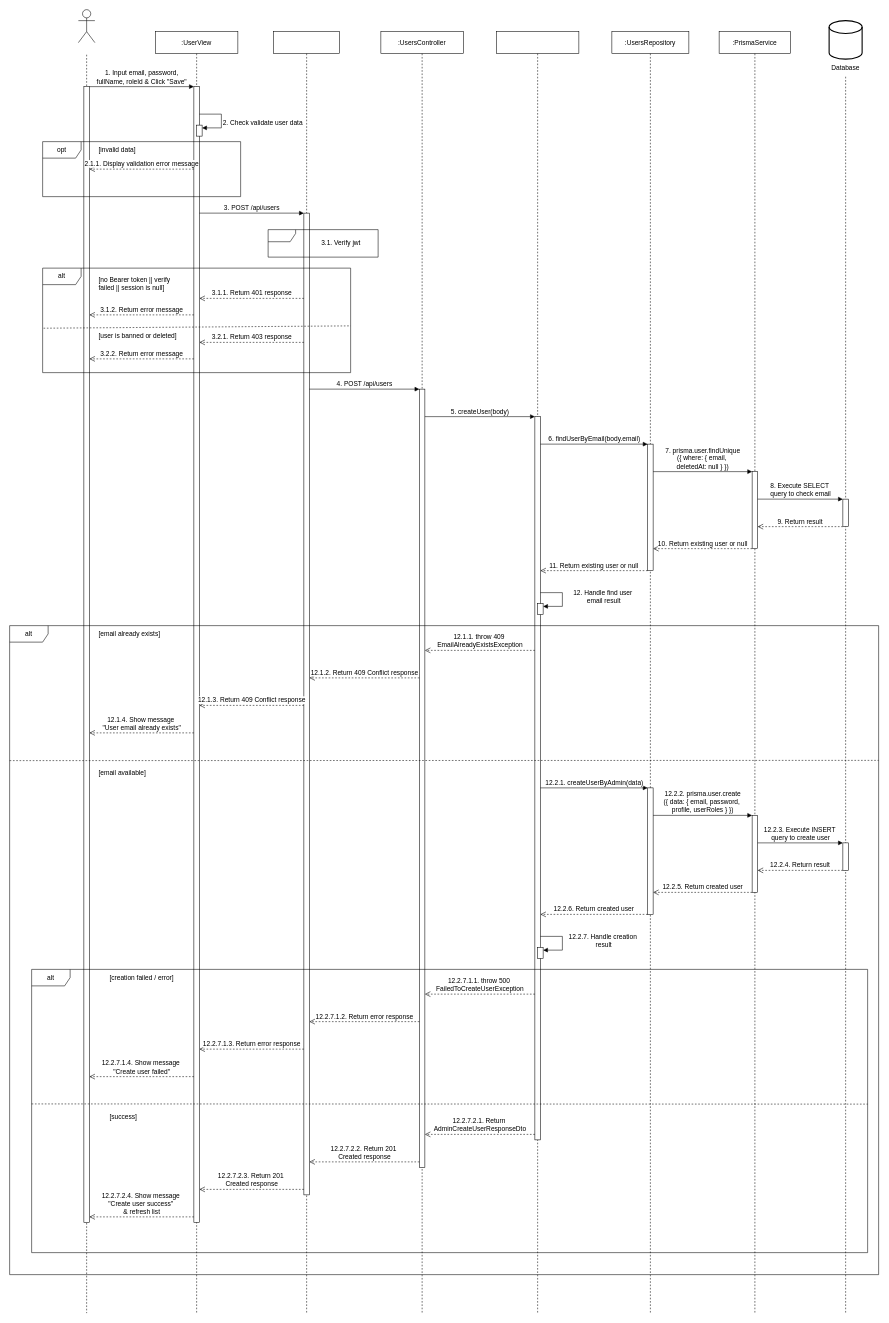
Some shapes in this 889 by 1323 pixel diagram are drawn without their labels. The box of each missing label's shape, as (x1, y1, x2, y2) in pixels:
:UserRoute: (273, 31, 340, 1313)
:UsersService: (496, 31, 579, 1313)
Admin: (78, 9, 95, 43)
ref: (268, 229, 378, 257)
